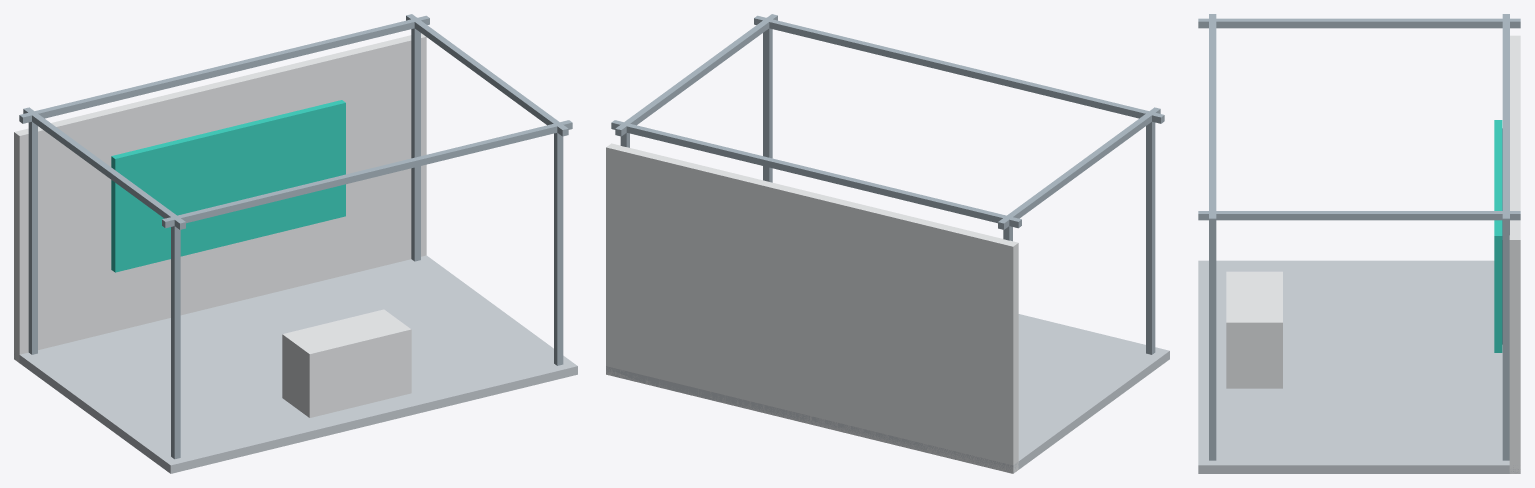
3 renders of one model, left to right at view 1: azimuth 30°, elevation 25°; view 2: azimuth 150°, elevation 25°; view 3: azimuth 270°, elevation 25°, orthographic. The views are drawn at different scales.
Visible parts, largest first — view 1: Exhibition Booth Concept; view 2: Exhibition Booth Concept; view 3: Exhibition Booth Concept.
Boxes of the visible parts, <box> form: Exhibition Booth Concept: <box>14,14,577,473</box>; Exhibition Booth Concept: <box>606,14,1169,473</box>; Exhibition Booth Concept: <box>1198,14,1520,473</box>.
Bounding box in the file's own units: 6 × 3.49 × 4.
